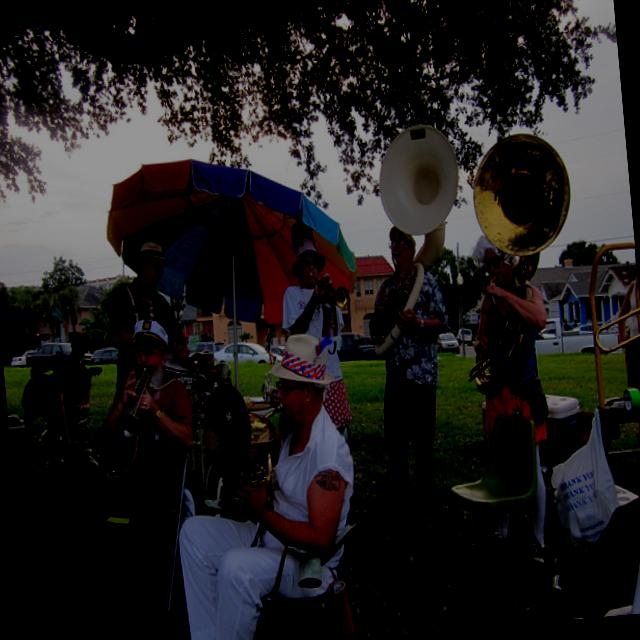Vehicle: (532, 312, 622, 361), (213, 338, 283, 369), (335, 331, 376, 362), (24, 341, 74, 366), (568, 318, 616, 338), (88, 346, 121, 365), (436, 332, 460, 356), (456, 327, 472, 346), (10, 352, 26, 366)
